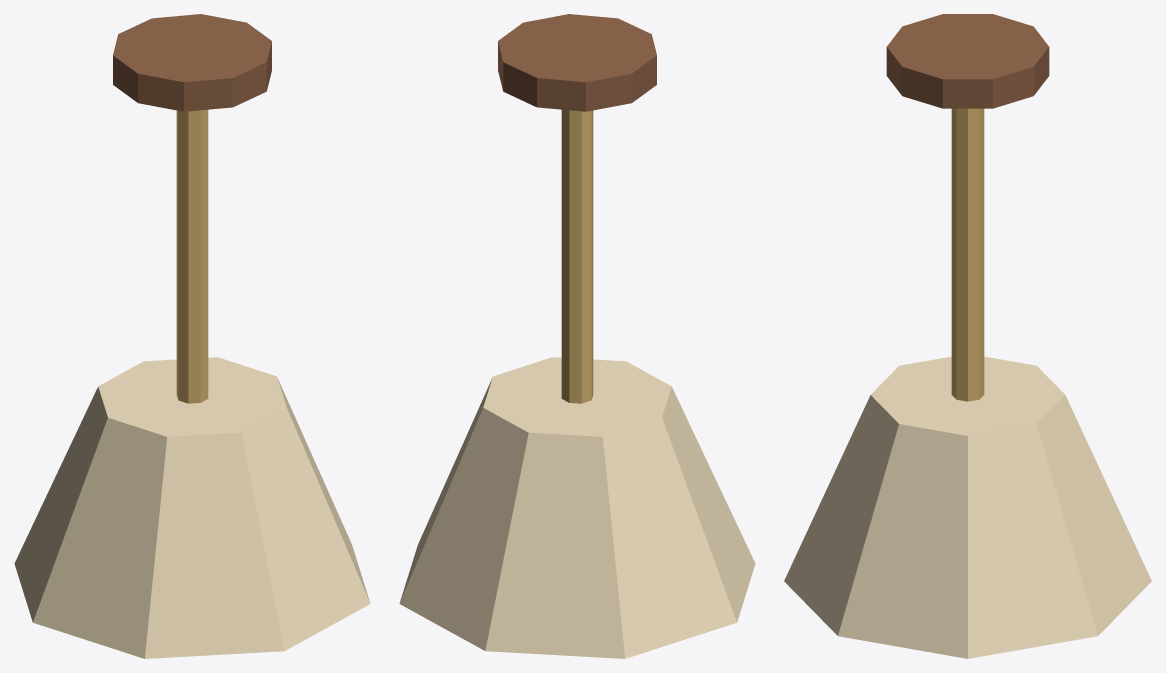
The model's file is SM_CH_Paper_Lamp.fbx.
The picture shows the model from 3 angles, left to right: view 1: azimuth 30°, elevation 25°; view 2: azimuth 150°, elevation 25°; view 3: azimuth 270°, elevation 25°; orthographic projection.
Parts seen in each view (by area): view 1: SM_CH_Paper_Lamp; view 2: SM_CH_Paper_Lamp; view 3: SM_CH_Paper_Lamp.
Part boxes in pixels (x1=…): SM_CH_Paper_Lamp: x1=14, y1=14, x2=370, y2=658; SM_CH_Paper_Lamp: x1=399, y1=14, x2=755, y2=658; SM_CH_Paper_Lamp: x1=784, y1=14, x2=1151, y2=658.
Bounding box in the file's own units: 6800 × 6800 × 10900.
